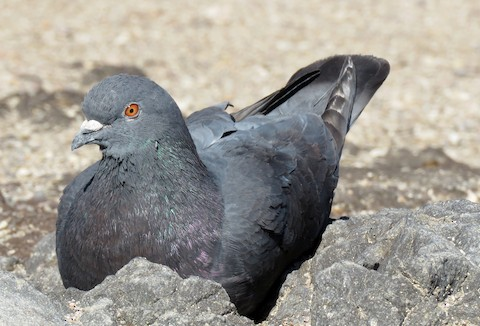pigeon: (52, 50, 392, 308)
